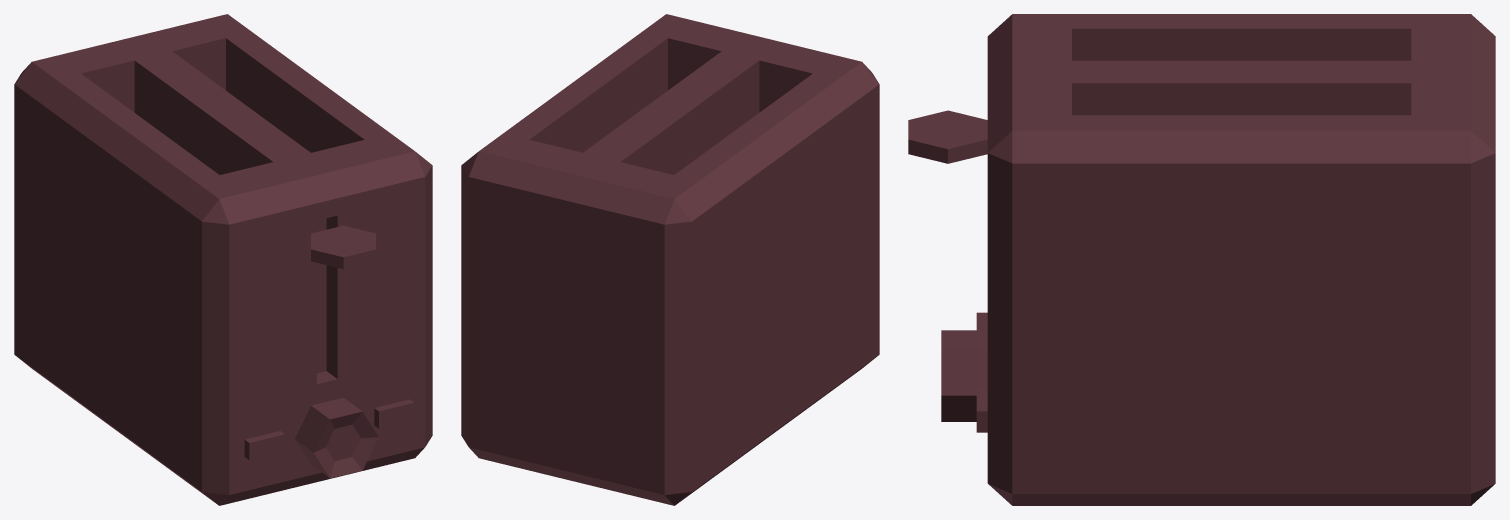
Rendered from toaster.fbx.
3 views of the same model, side by side, from view 1: azimuth 30°, elevation 25°; view 2: azimuth 150°, elevation 25°; view 3: azimuth 270°, elevation 25° (orthographic). The views are drawn at different scales.
Parts seen in each view (by area): view 1: toaster; view 2: toaster; view 3: toaster.
Boxes of the visible parts, left/top/right/bottom form: toaster: left=14, top=14, right=432, bottom=505; toaster: left=461, top=14, right=879, bottom=505; toaster: left=908, top=14, right=1495, bottom=505.
Bounding box in the file's own units: 0.1298 × 0.165 × 0.2341.
